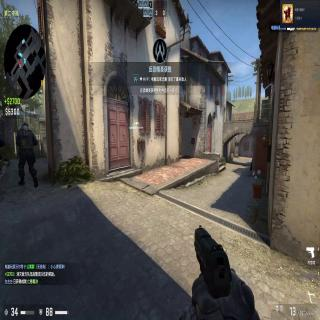CT-Body: (15, 122, 38, 190)
CT-Head: (22, 122, 29, 130)
